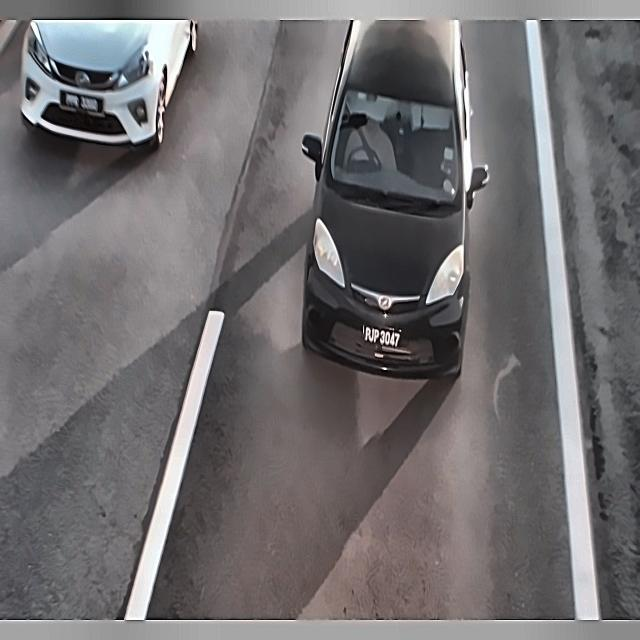car: (358, 311, 407, 353), (56, 82, 111, 119)
